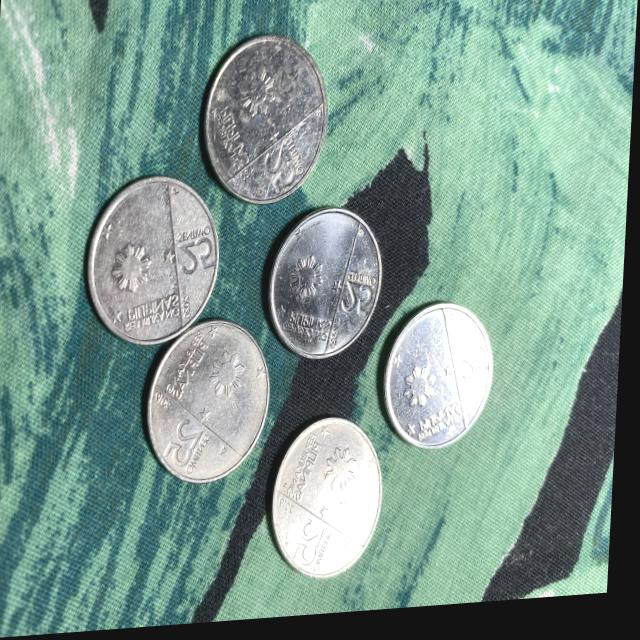25Cent_New_Front: (294, 520, 332, 572), (179, 236, 219, 284), (169, 418, 205, 470), (265, 147, 299, 201), (344, 277, 377, 327), (459, 350, 490, 391)
